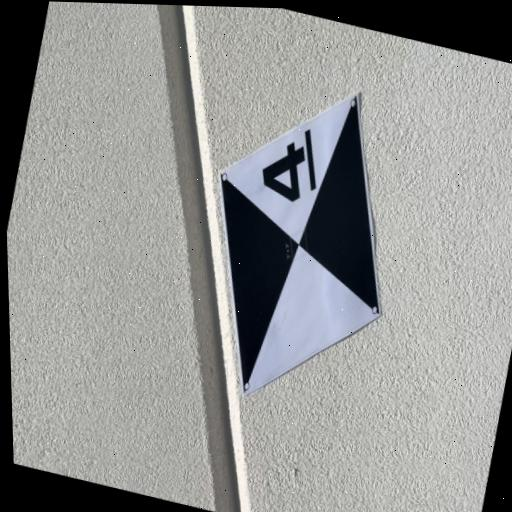target4: (220, 92, 382, 396)
